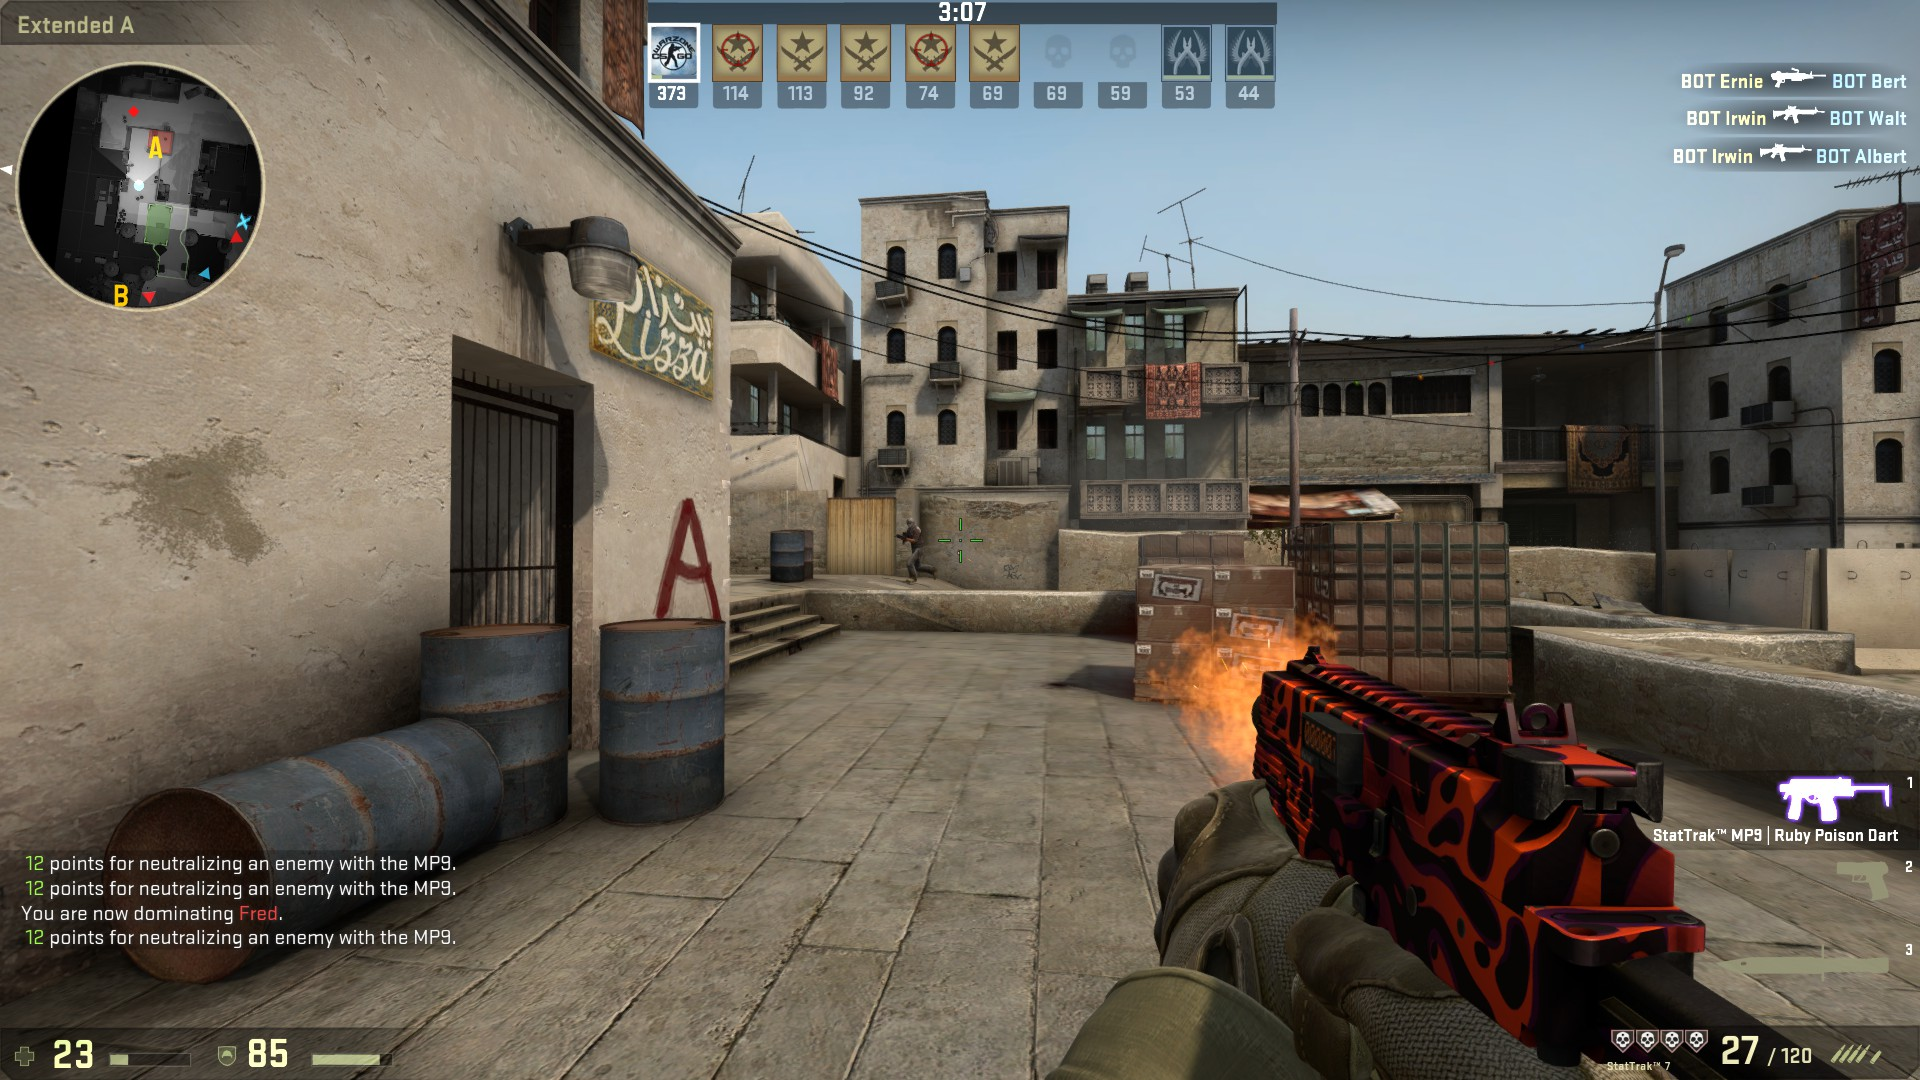t: (897, 516, 931, 584)
th: (903, 517, 918, 533)
